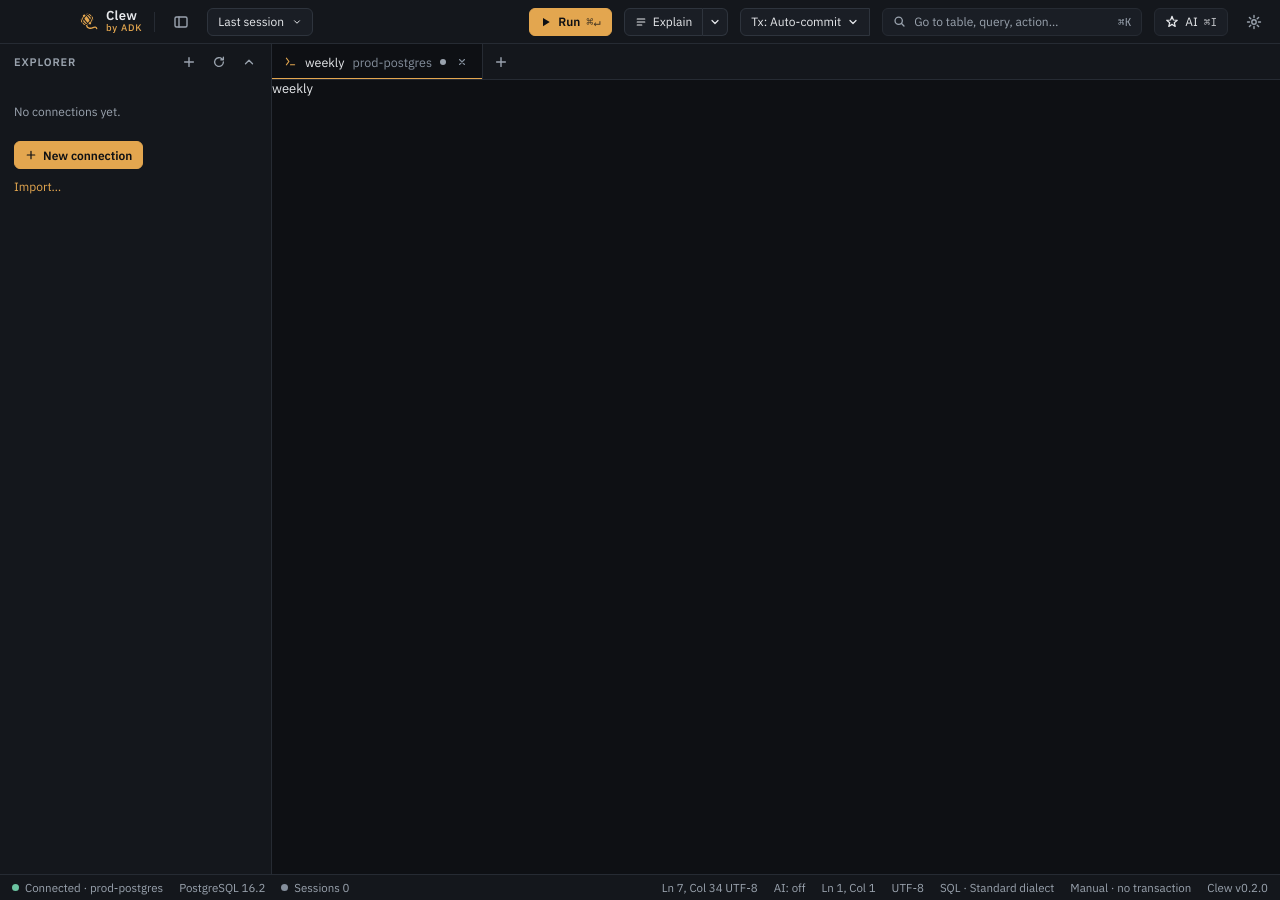
Test: dirty close prompt › Cancel keeps the tab
Click the button named "Close weekly": coordinates (462, 62) top-left (454, 54), bottom-right (470, 70)
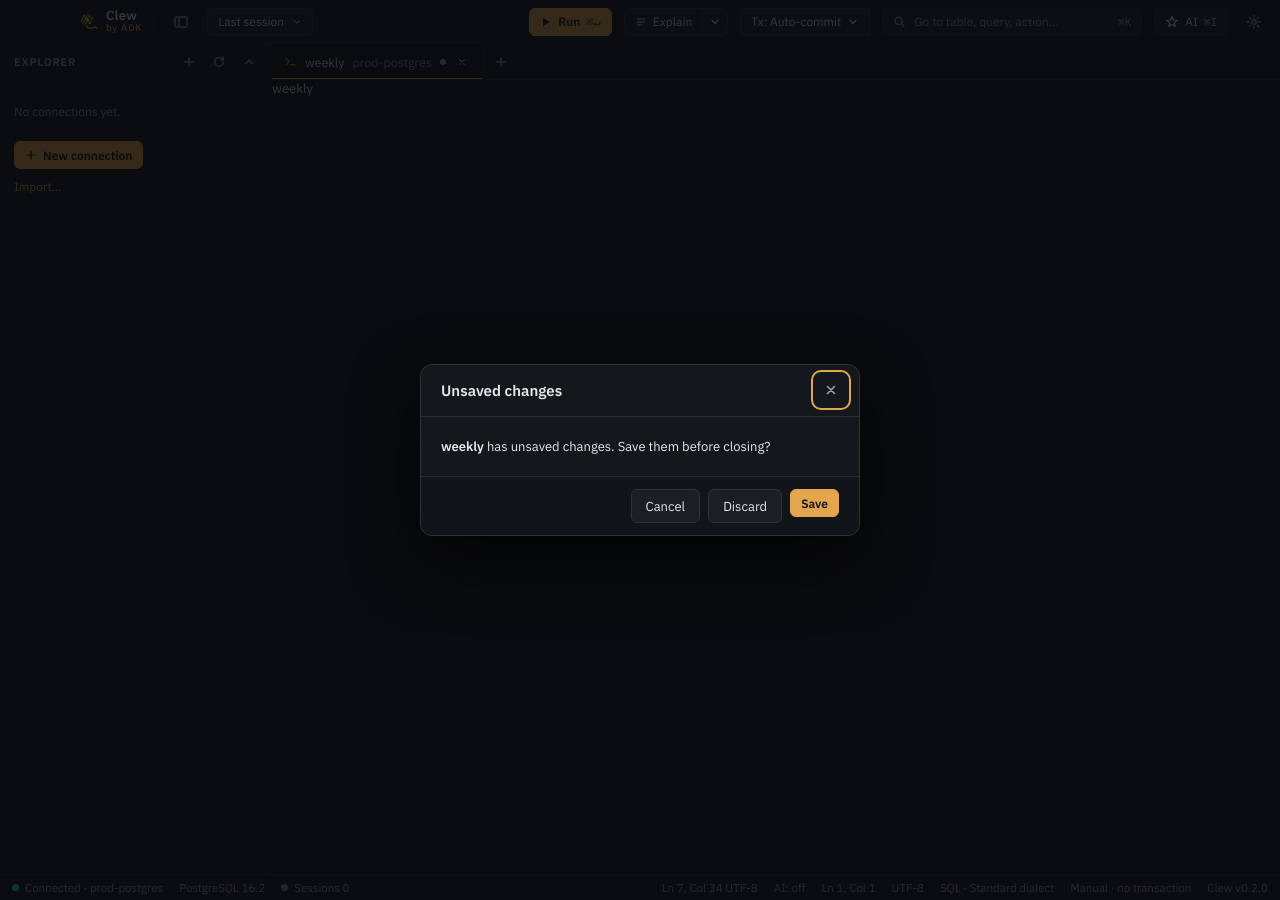
Click the button "Cancel": coordinates (665, 506) top-left (631, 489), bottom-right (700, 523)
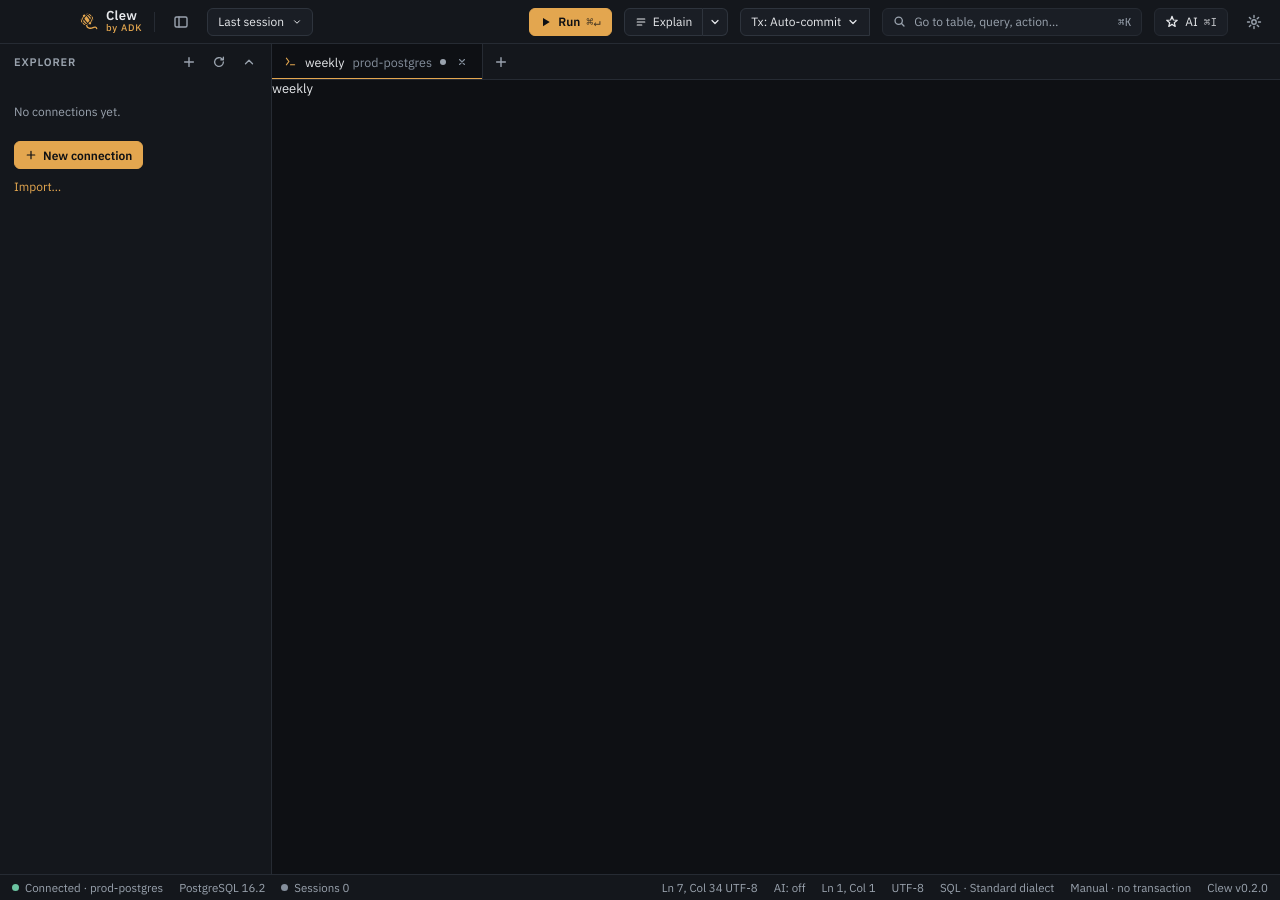
Result: the dialog is gone
